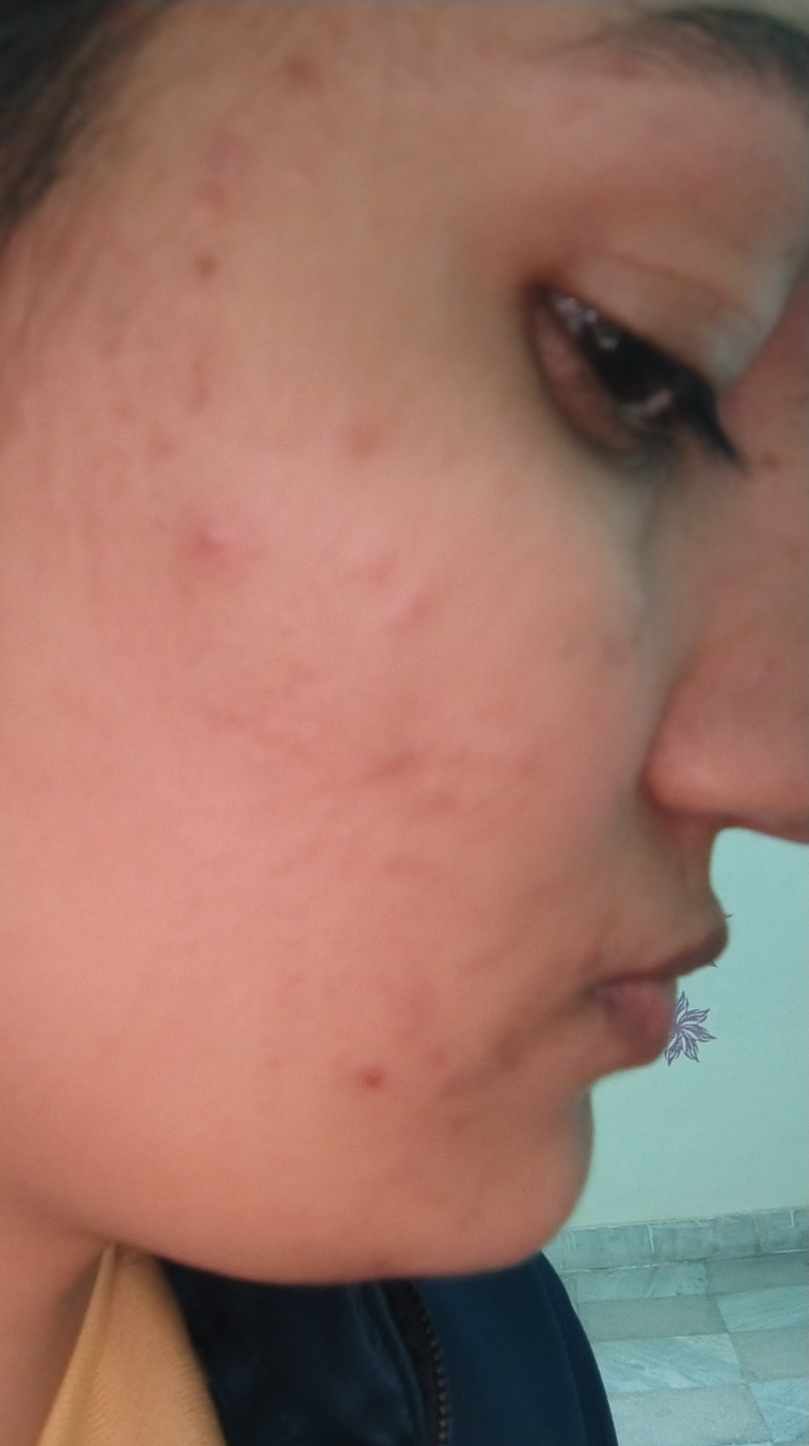papule: (339, 541, 437, 649), (179, 515, 253, 625), (313, 403, 408, 472), (332, 1031, 399, 1124), (370, 742, 437, 821)
